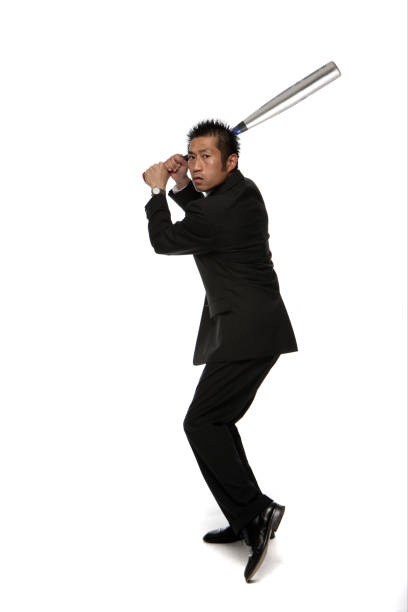bita: (229, 59, 342, 144)
